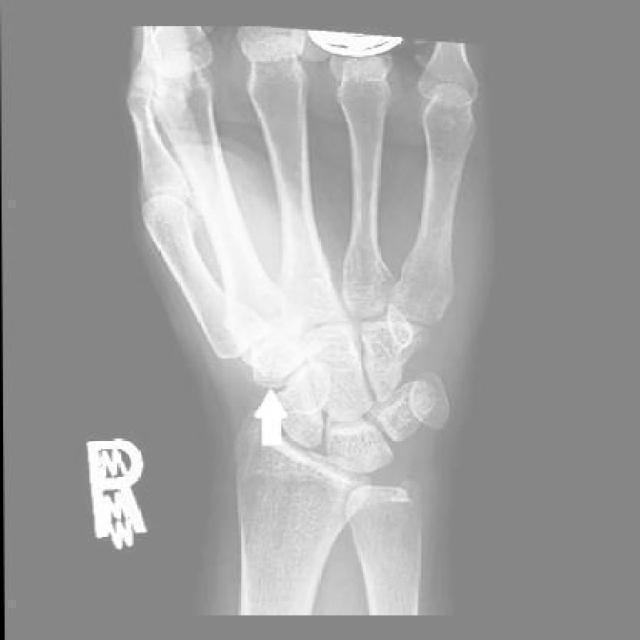bone: (251, 333, 298, 379)
